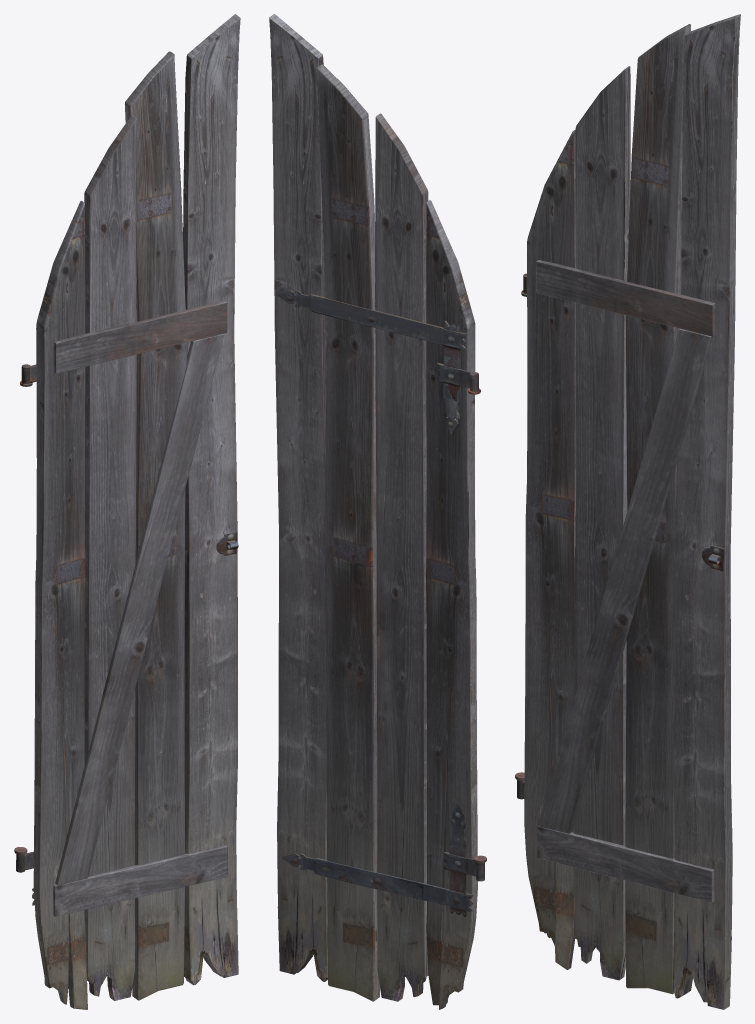
Rendered from SM_Door_02_01.fbx.
3 renders of one model, left to right at view 1: azimuth 30°, elevation 25°; view 2: azimuth 150°, elevation 25°; view 3: azimuth 330°, elevation 25°, orthographic. The views are drawn at different scales.
Visible parts, largest first — view 1: sm_Door_02_01_LOD0; view 2: sm_Door_02_01_LOD0; view 3: sm_Door_02_01_LOD0.
Boxes of the visible parts, <box> form: sm_Door_02_01_LOD0: <box>14,14,240,1009</box>; sm_Door_02_01_LOD0: <box>269,14,486,1009</box>; sm_Door_02_01_LOD0: <box>515,14,740,1009</box>.
Bounding box in the file's own units: 13.09 × 72.45 × 303.
